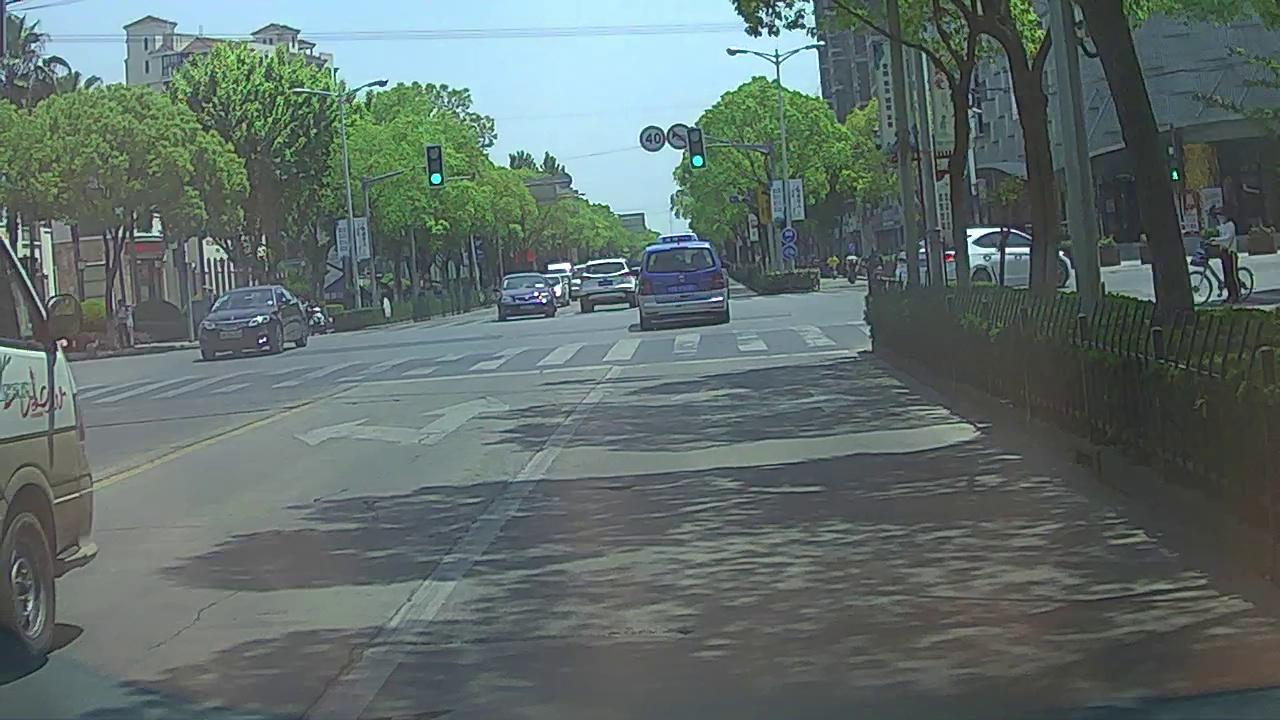traffic_light: (689, 127, 705, 168), (428, 146, 442, 186)
